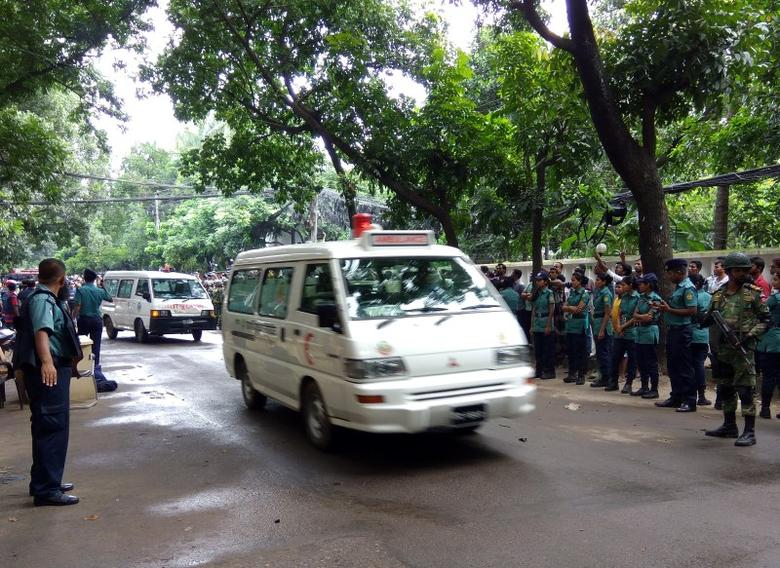ambulance: (219, 213, 540, 449), (98, 263, 217, 344)
